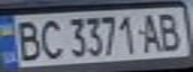1: (115, 11, 139, 55)
3: (81, 14, 106, 57), (63, 15, 87, 58)
7: (100, 12, 121, 56)
A: (136, 10, 166, 53)
B: (9, 17, 45, 62), (154, 9, 187, 52)
C: (36, 16, 66, 61)
